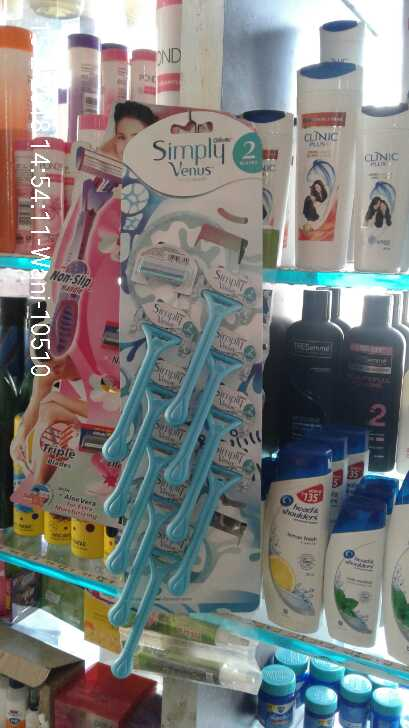beauty: (253, 439, 328, 634), (325, 502, 379, 642)
pharmacy: (255, 665, 297, 728), (309, 672, 331, 728)
